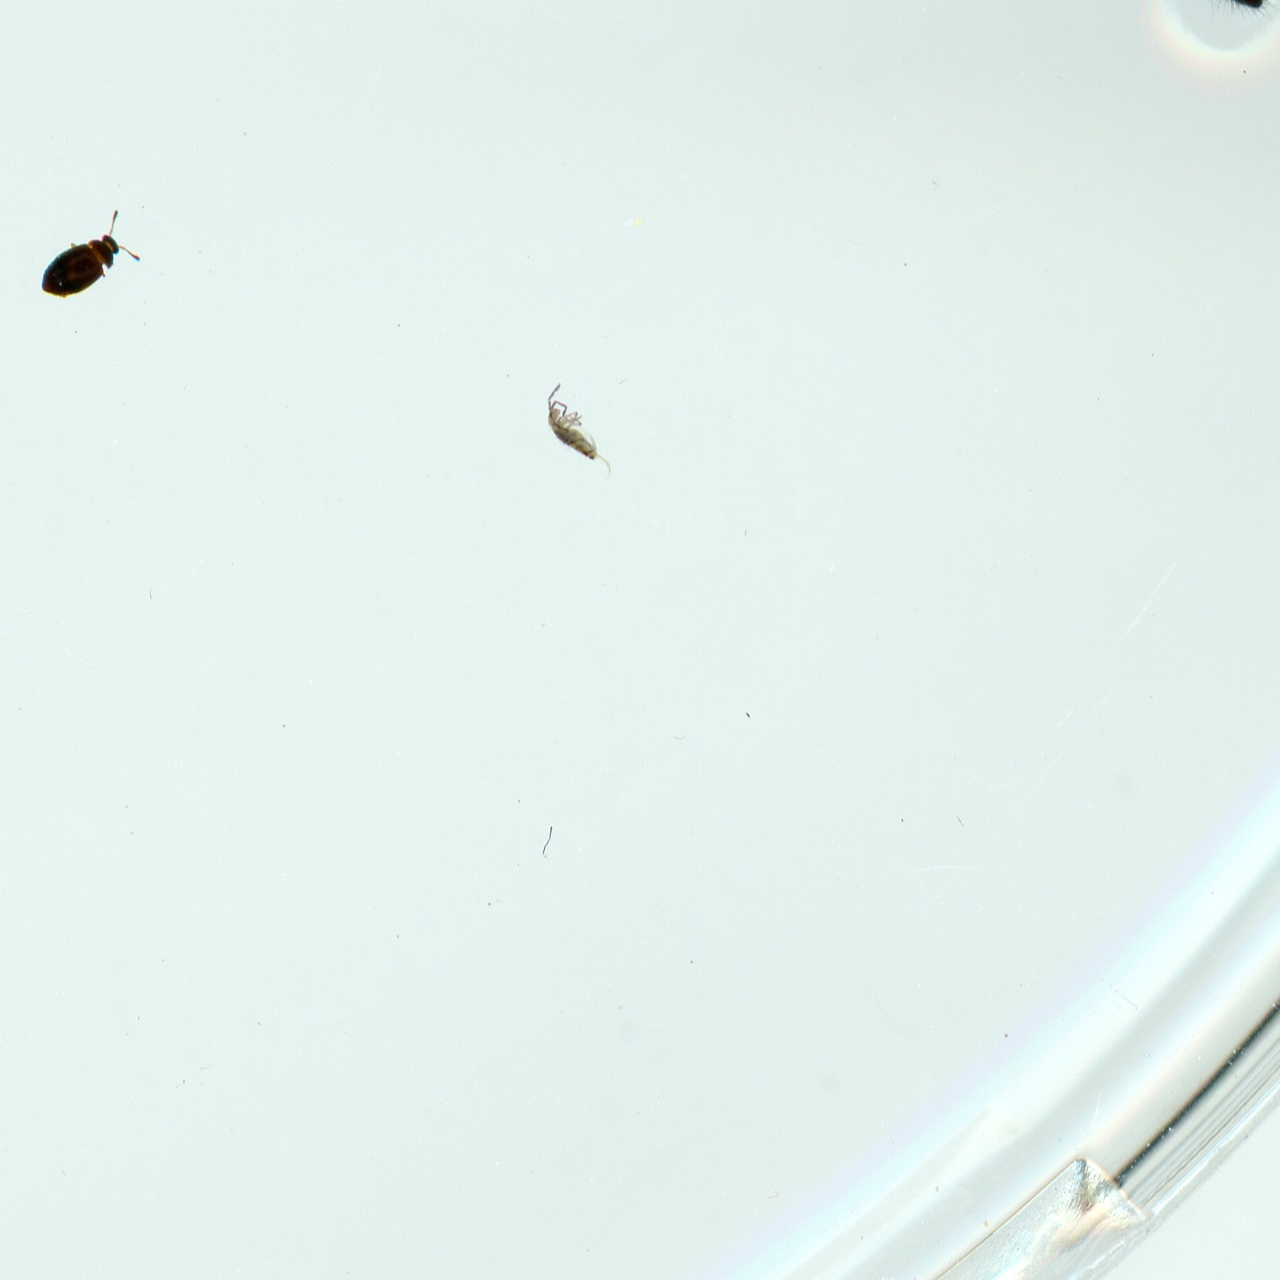arthropod: (18, 192, 161, 327), (538, 379, 634, 497)
